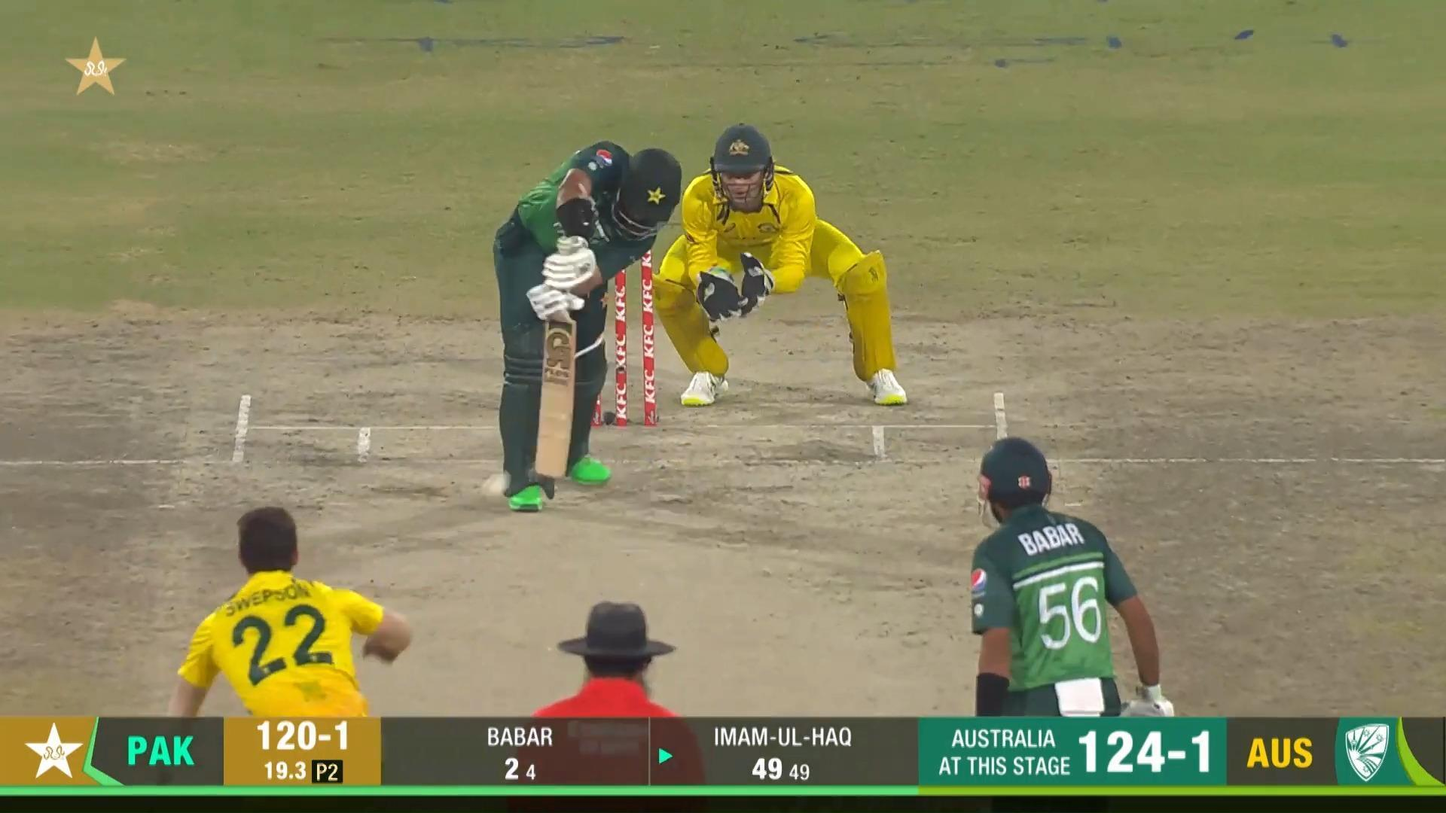BM 1: (491, 139, 684, 514)
BO: (170, 503, 414, 714)
